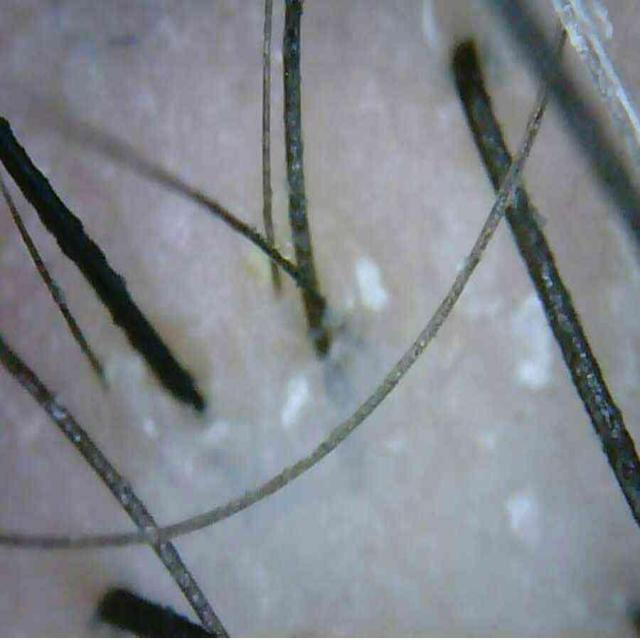d: (514, 286, 559, 395), (354, 246, 398, 316), (502, 488, 545, 550), (279, 365, 312, 433)
